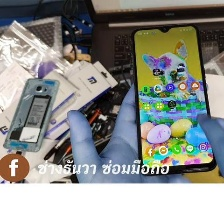phone: (128, 20, 220, 176), (0, 75, 62, 153)
